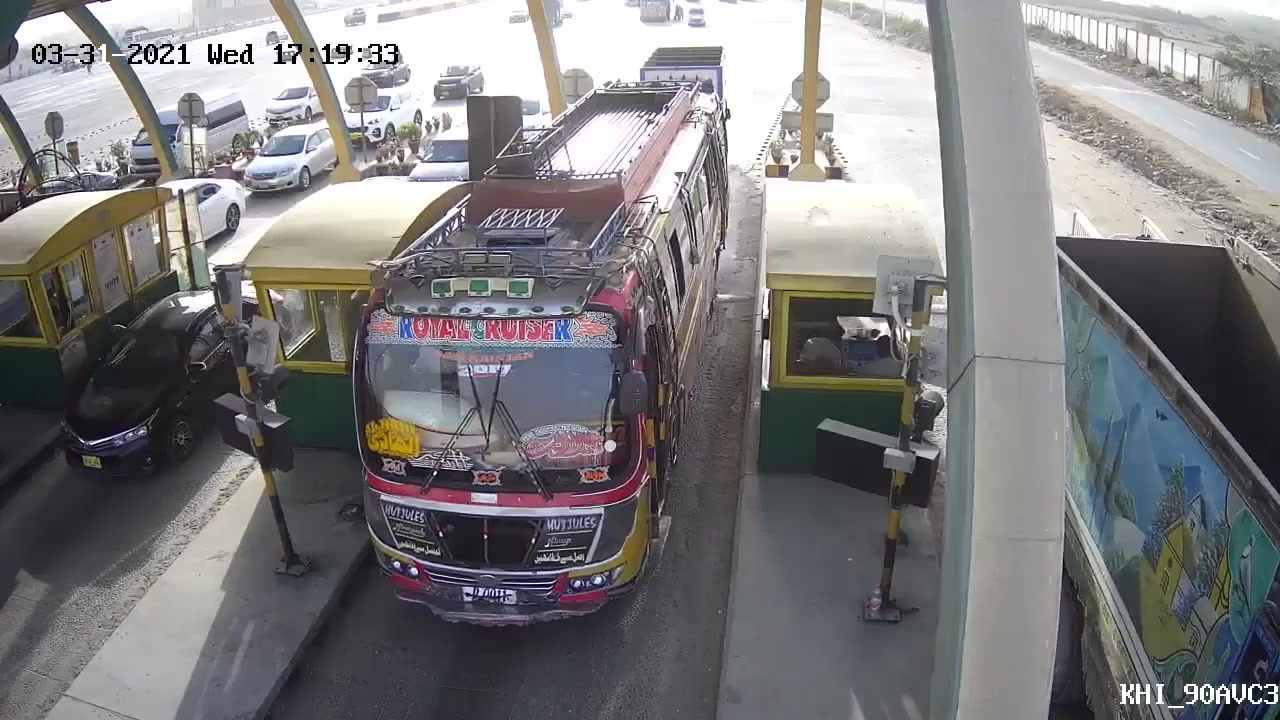F4: (340, 83, 740, 647)
